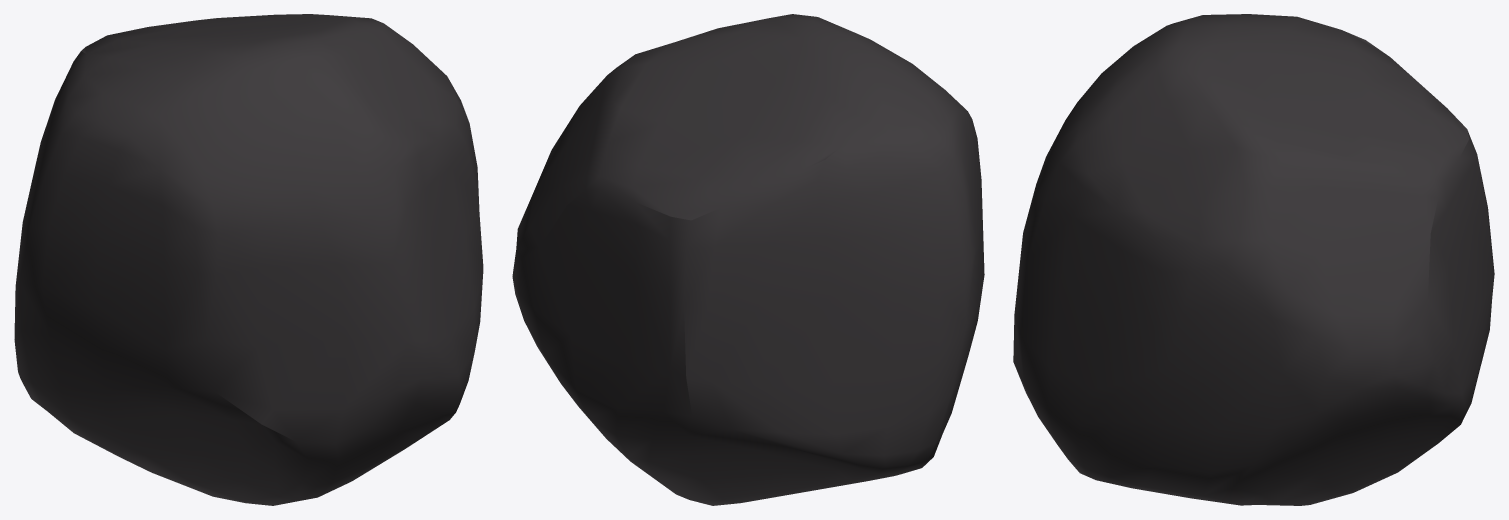
The model's file is Prop_CannonBall.glb.
The picture shows the model from 3 angles, left to right: view 1: azimuth 30°, elevation 25°; view 2: azimuth 150°, elevation 25°; view 3: azimuth 270°, elevation 25°; orthographic projection. The views are drawn at different scales.
Parts seen in each view (by area): view 1: Prop_CannonBall; view 2: Prop_CannonBall; view 3: Prop_CannonBall.
Boxes of the visible parts, x1,y1,x2,y2 form: Prop_CannonBall: [14, 14, 483, 505]; Prop_CannonBall: [512, 14, 984, 505]; Prop_CannonBall: [1013, 14, 1494, 505].
Bounding box in the file's own units: 0.4043 × 0.4062 × 0.3903.
Materials: 1 (1 with a texture image).
